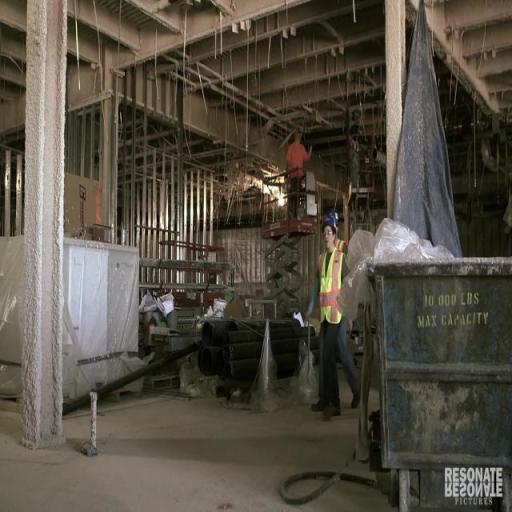Person: (305, 194, 380, 436)
helmet: (316, 204, 346, 237)
vest: (304, 244, 350, 332)
